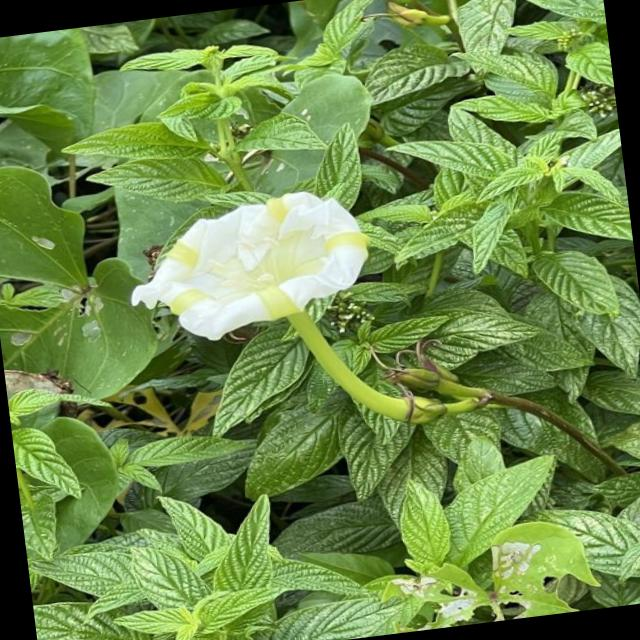ipomoea: (115, 180, 382, 354)
